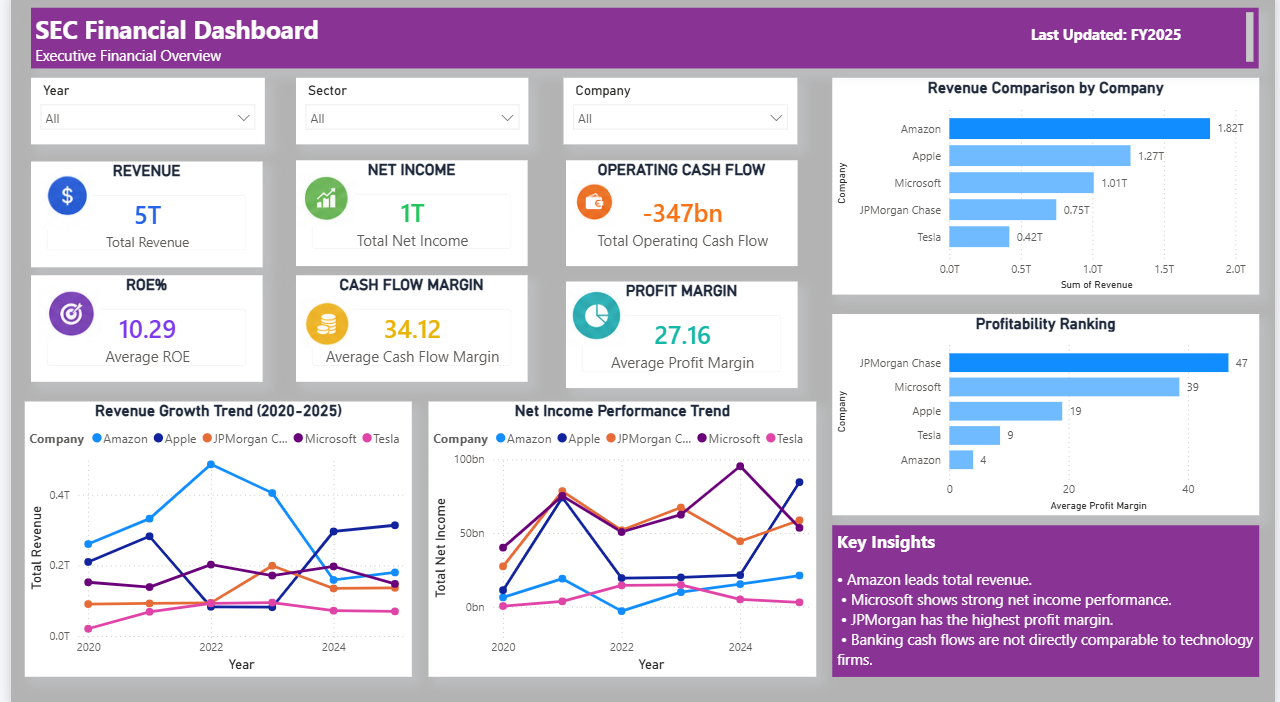

The dashboard page shown, as its layout file describes it:
{"tool":"powerbi","page":{"name":"Executive Financial Overview","canvas":[1366,769],"ordinal":0},"visuals":[{"type":"cardVisual","title":"REVENUE","fields":{"Data":["SEC_Financials_Quarterly.Total Revenue"]},"box":[21.8,180.8,250,114.1],"z":0},{"type":"cardVisual","title":"OPERATING CASH FLOW","fields":{"Data":["SEC_Financials_Quarterly.Total Operating Cash Flow"]},"box":[600,179.5,250,114.1],"z":1000},{"type":"cardVisual","title":"NET INCOME","fields":{"Data":["SEC_Financials_Quarterly.Total Net Income"]},"box":[307.7,179.5,250,114.1],"z":2000},{"type":"cardVisual","title":"ROE%","fields":{"Data":["SEC_Financials_Quarterly.Average ROE"]},"box":[21.8,303.8,250,115.4],"z":3000},{"type":"cardVisual","title":"CASH FLOW MARGIN","fields":{"Data":["SEC_Financials_Quarterly.Average Cash Flow Margin"]},"box":[307.7,303.8,250,115.4],"z":4000},{"type":"lineChart","title":"Revenue Growth Trend (2020-2025)","fields":{"Category":["SEC_Financials_Quarterly.Year"],"Series":["SEC_Financials_Quarterly.Company"],"Y":["SEC_Financials_Quarterly.Total Revenue"]},"box":[14.5,440.8,418.4,297.4],"z":5000},{"type":"lineChart","title":"Net Income Performance Trend","fields":{"Category":["SEC_Financials_Quarterly.Year"],"Series":["SEC_Financials_Quarterly.Company"],"Y":["SEC_Financials_Quarterly.Total Net Income"]},"box":[451.3,441,419.2,297.4],"z":6000},{"type":"clusteredBarChart","title":"Revenue Comparison by Company","fields":{"Category":["SEC_Financials_Quarterly.Company"],"Y":["Sum(SEC_Financials_Quarterly.Revenue)"]},"box":[887.2,91,461.5,234.6],"z":7000},{"type":"cardVisual","title":"PROFIT MARGIN","fields":{"Data":["SEC_Financials_Quarterly.Average Profit Margin"]},"box":[600,310.3,250,115.4],"z":8000},{"type":"clusteredBarChart","title":"Profitability Ranking","fields":{"Category":["SEC_Financials_Quarterly.Company"],"Y":["SEC_Financials_Quarterly.Average Profit Margin"]},"box":[887.2,346.2,461.5,217.9],"z":9000},{"type":"textbox","box":[21.8,15.4,1326.9,65.4],"z":10000},{"type":"textbox","box":[1087.2,26.9,192.3,39.7],"z":11000},{"type":"slicer","fields":{"Values":["SEC_Financials_Quarterly.Company"]},"box":[597.4,91,252.6,71.8],"z":12000},{"type":"slicer","fields":{"Values":["DateTable.Year"]},"box":[21.8,91,252.6,71.8],"z":13000},{"type":"slicer","fields":{"Values":["SEC_Financials_Quarterly.Sector"]},"box":[307.7,91,251.3,71.8],"z":14000},{"type":"textbox","box":[887.2,574.4,461.5,164.1],"z":15000},{"type":"image","box":[21.8,192.3,75.6,62.8],"z":16000},{"type":"image","box":[307.7,192.3,64.1,61.5],"z":17000},{"type":"image","box":[597.4,201.3,64.1,52.6],"z":18000},{"type":"image","box":[29.5,310.3,67.9,71.8],"z":19000},{"type":"image","box":[307.7,329.5,64.1,52.6],"z":20000},{"type":"image","box":[600,316.7,62.8,65.4],"z":21000}]}

Visuals, with their boxes in screenshot pixels (x1, y1, x2, y2), scaled from the page's 1366x769 canvas onto the 1280x702 screenshot:
"REVENUE" cardVisual: <bbox>20, 165, 255, 269</bbox>
"OPERATING CASH FLOW" cardVisual: <bbox>562, 164, 796, 268</bbox>
"NET INCOME" cardVisual: <bbox>288, 164, 523, 268</bbox>
"ROE%" cardVisual: <bbox>20, 277, 255, 383</bbox>
"CASH FLOW MARGIN" cardVisual: <bbox>288, 277, 523, 383</bbox>
"Revenue Growth Trend (2020-2025)" lineChart: <bbox>14, 402, 406, 674</bbox>
"Net Income Performance Trend" lineChart: <bbox>423, 403, 816, 674</bbox>
"Revenue Comparison by Company" clusteredBarChart: <bbox>831, 83, 1264, 297</bbox>
"PROFIT MARGIN" cardVisual: <bbox>562, 283, 796, 389</bbox>
"Profitability Ranking" clusteredBarChart: <bbox>831, 316, 1264, 515</bbox>
textbox: <bbox>20, 14, 1264, 74</bbox>
textbox: <bbox>1019, 25, 1199, 61</bbox>
slicer - SEC_Financials_Quarterly.Company: <bbox>560, 83, 796, 149</bbox>
slicer - DateTable.Year: <bbox>20, 83, 257, 149</bbox>
slicer - SEC_Financials_Quarterly.Sector: <bbox>288, 83, 524, 149</bbox>
textbox: <bbox>831, 524, 1264, 674</bbox>
image: <bbox>20, 176, 91, 233</bbox>
image: <bbox>288, 176, 348, 232</bbox>
image: <bbox>560, 184, 620, 232</bbox>
image: <bbox>28, 283, 91, 349</bbox>
image: <bbox>288, 301, 348, 349</bbox>
image: <bbox>562, 289, 621, 349</bbox>
